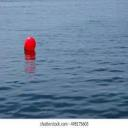red: (24, 37, 36, 53)
